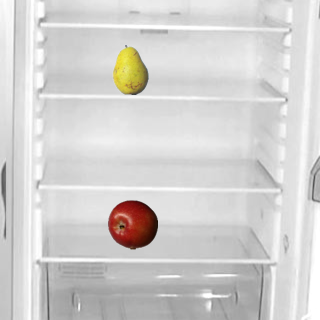Apple Braeburn: (107, 199, 157, 249)
Pear Monster: (105, 44, 155, 94)
